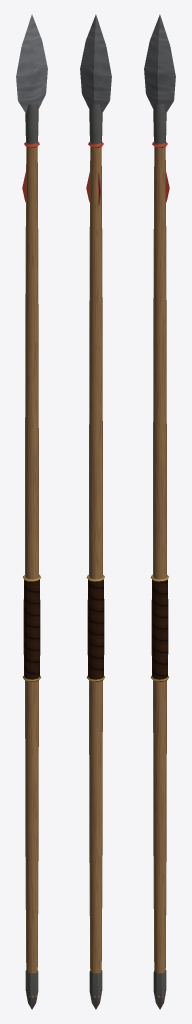
The model's file is javelin.glb.
3 renders of one model, left to right at view 1: azimuth 30°, elevation 25°; view 2: azimuth 150°, elevation 25°; view 3: azimuth 330°, elevation 25°, orthographic.
Visible parts, largest first — view 1: javelin; view 2: javelin; view 3: javelin.
Part boxes in pixels (bbox=[...]): javelin: bbox=[16, 14, 47, 1009]; javelin: bbox=[80, 14, 111, 1009]; javelin: bbox=[144, 14, 175, 1009].
Bounding box in the file's own units: 0.068 × 2.03 × 0.0329.
6 materials, 5 textured.
